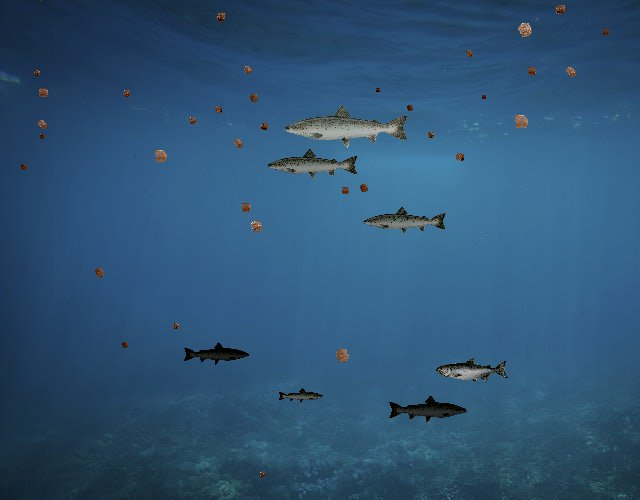Fish: (282, 103, 411, 149), (266, 148, 360, 182), (362, 205, 448, 236), (388, 394, 469, 424), (437, 358, 510, 384), (182, 341, 250, 366), (277, 388, 324, 404)
Pellet: (244, 214, 269, 239), (168, 319, 183, 334), (423, 128, 438, 142), (118, 338, 132, 352), (30, 66, 44, 80), (256, 469, 268, 481)
